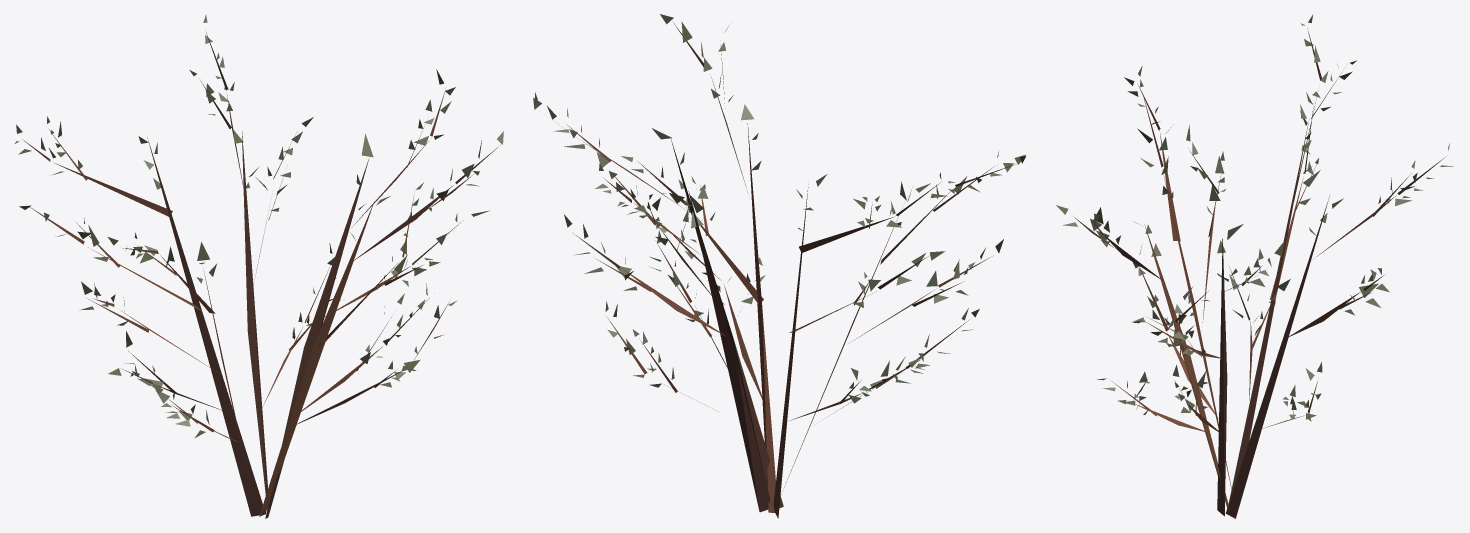
The picture shows the model from 3 angles, left to right: view 1: azimuth 30°, elevation 25°; view 2: azimuth 150°, elevation 25°; view 3: azimuth 270°, elevation 25°; orthographic projection. The views are drawn at different scales.
Parts seen in each view (by area): view 1: s02-lod; view 2: s02-lod; view 3: s02-lod.
Boxes of the visible parts, x1=… form: s02-lod: x1=14, y1=15, x2=503, y2=518; s02-lod: x1=533, y1=14, x2=1026, y2=518; s02-lod: x1=1056, y1=14, x2=1453, y2=518.
Size of the model in its own units: 1.13 by 1.05 by 0.9431.
